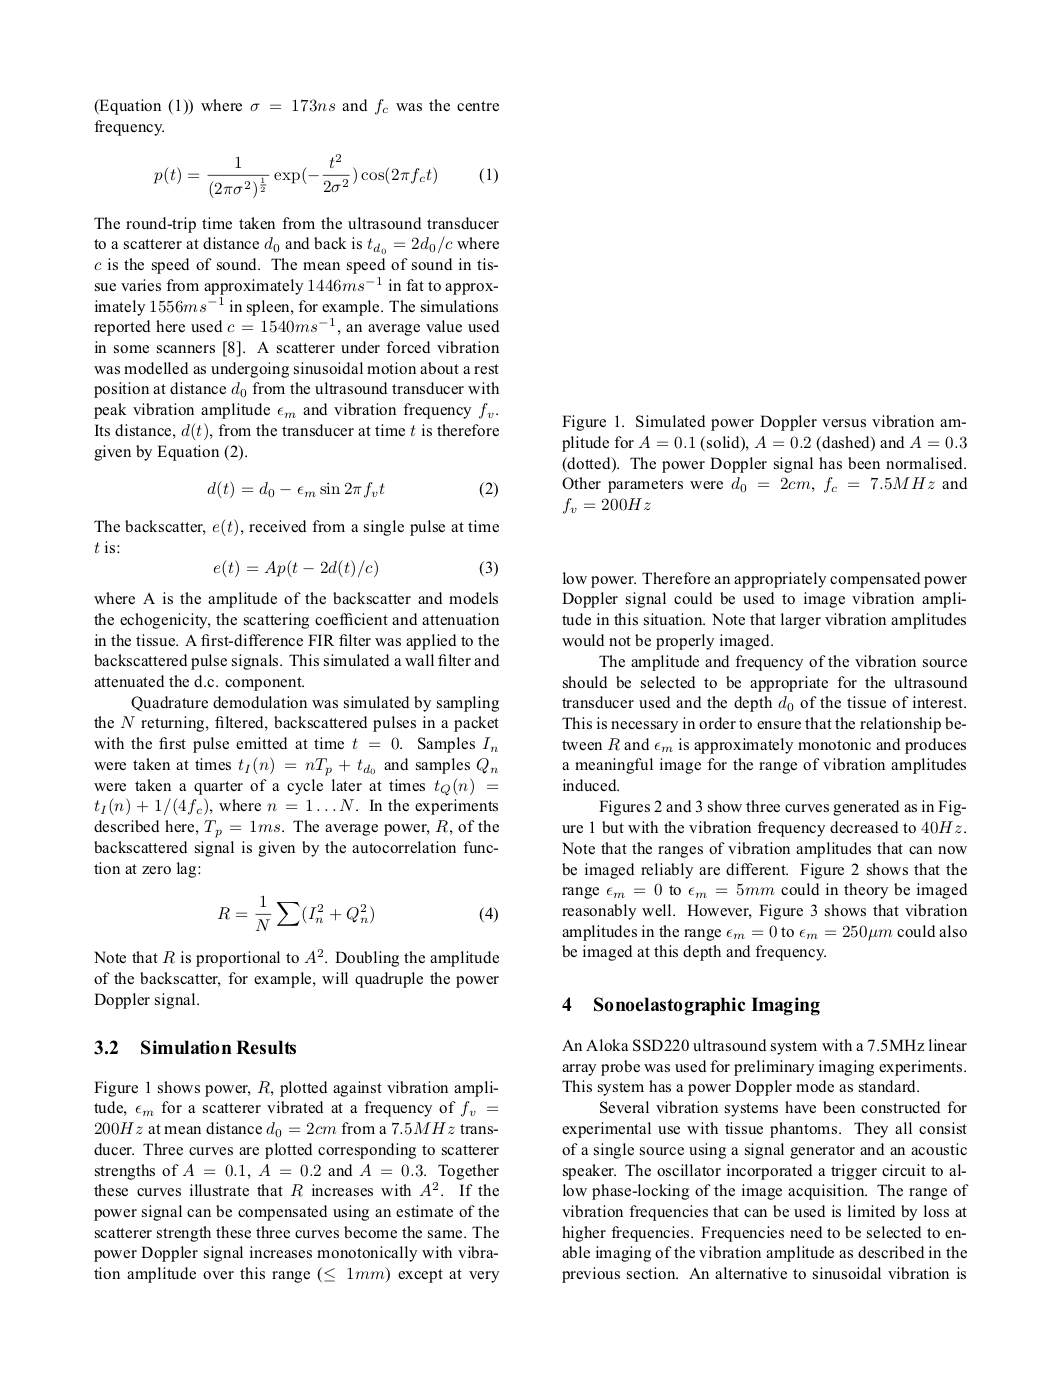formula: (153, 152, 497, 199), (217, 894, 497, 931), (94, 1163, 498, 1179), (207, 480, 497, 499), (213, 559, 497, 578)
